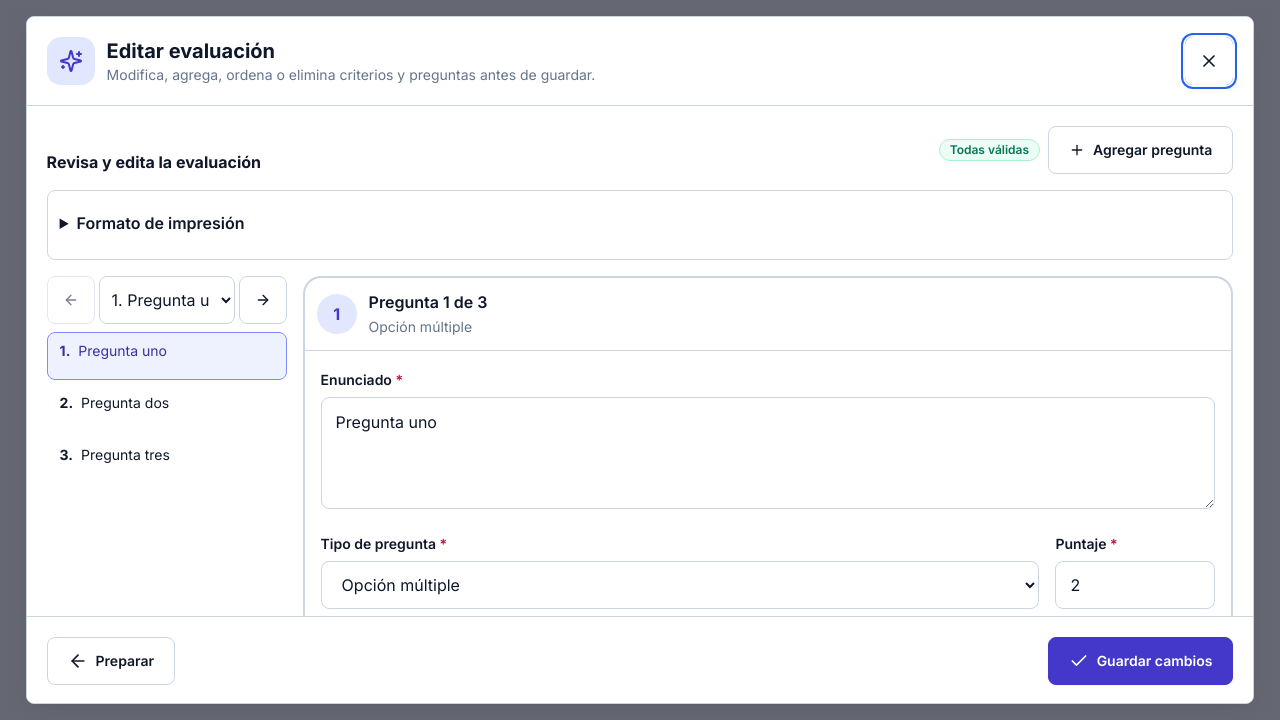
Test case: GenerationWizard › 125 edits only the selected question and keeps changes when navigating directly
Clear the text box labelled "Enunciado *" at (768,453), box [321,397,1215,509]
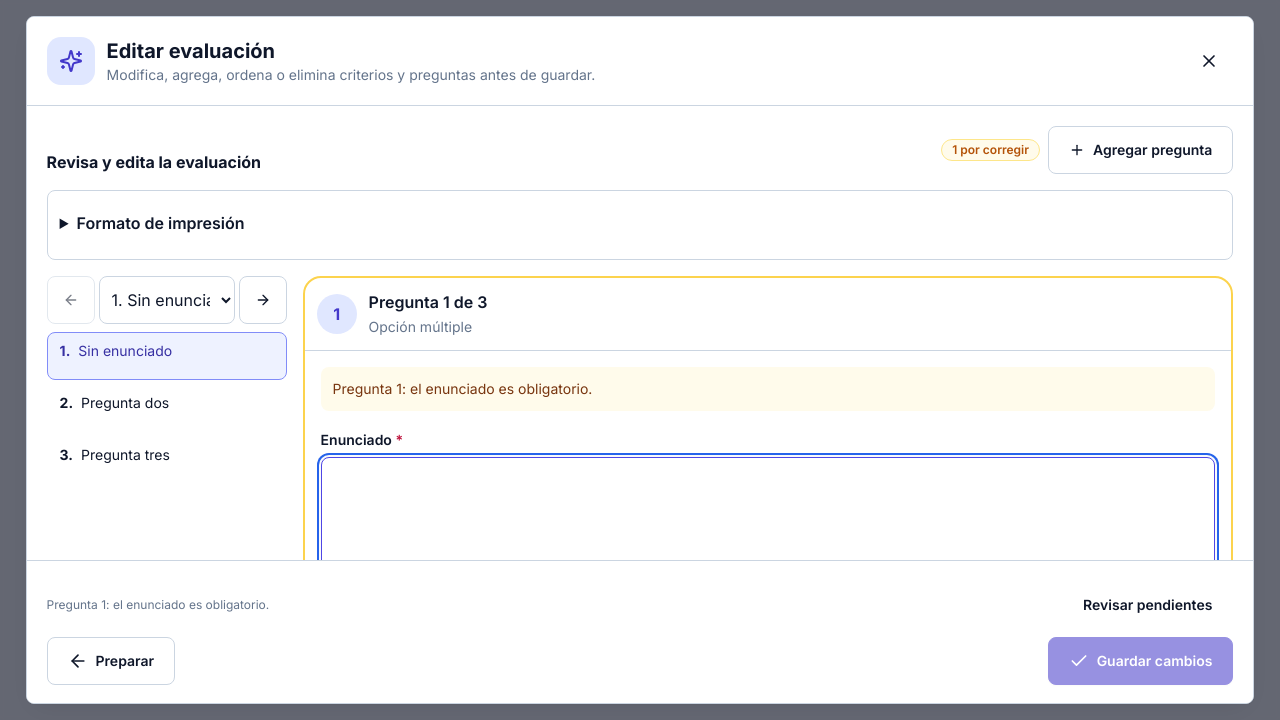
Type "Pregunta uno corregida" into the text box labelled "Enunciado *" at (768,513), box [321,457,1215,569]
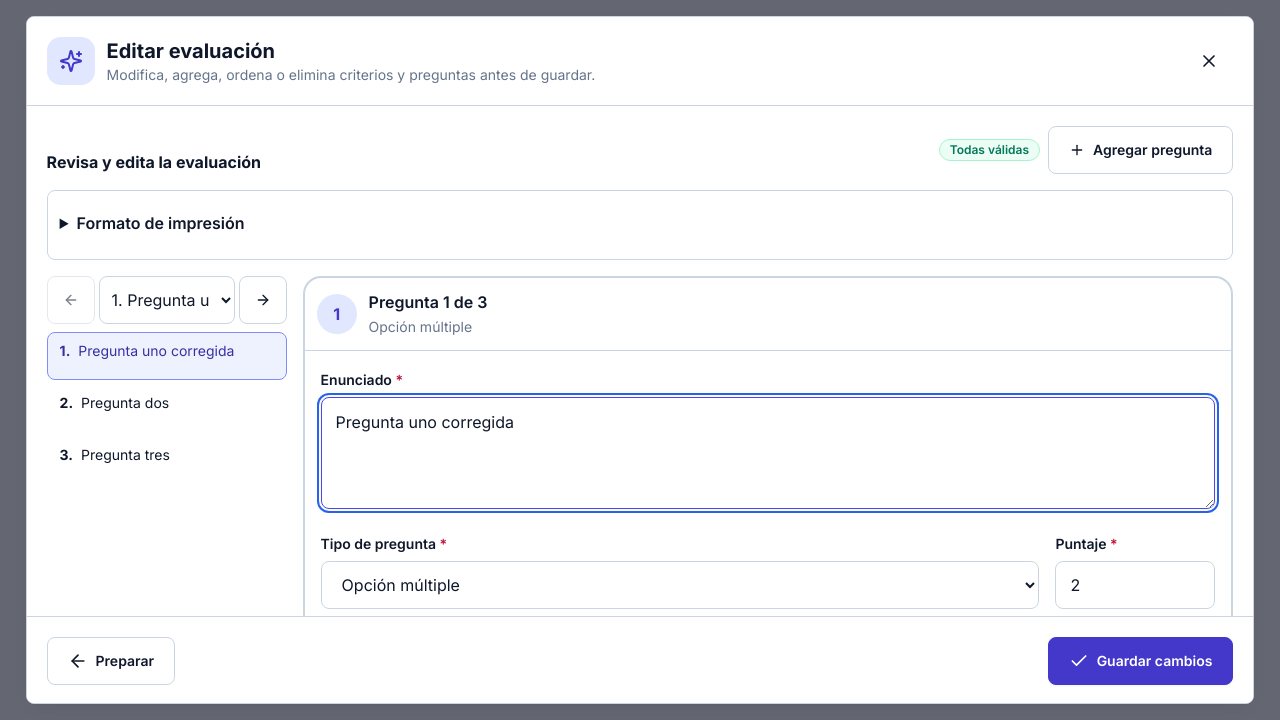
Select "2. Pregunta dos" in the dropdown named "Ir a la pregunta" at (167,300), box [99,276,235,324]
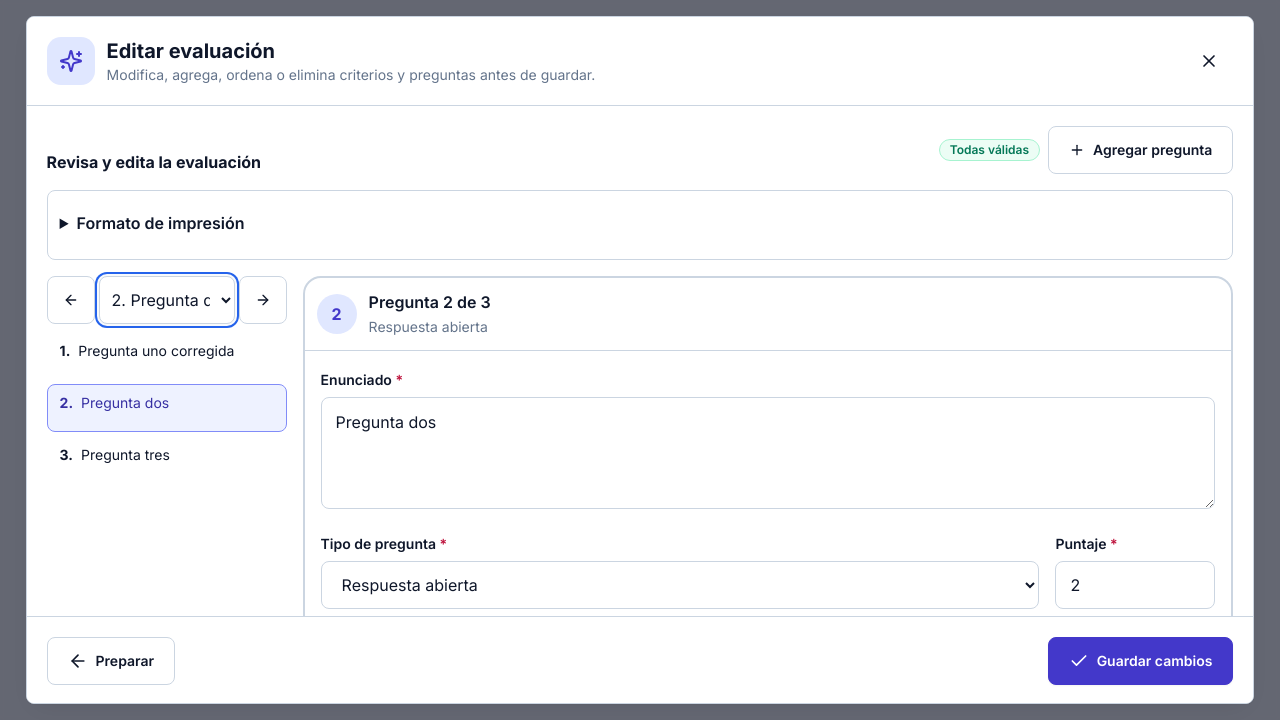
Now the text box labelled "Enunciado *" holds "Pregunta dos", box [321,397,1215,509]
Click the button named "Pregunta anterior" at (71,300), box [47,276,95,324]
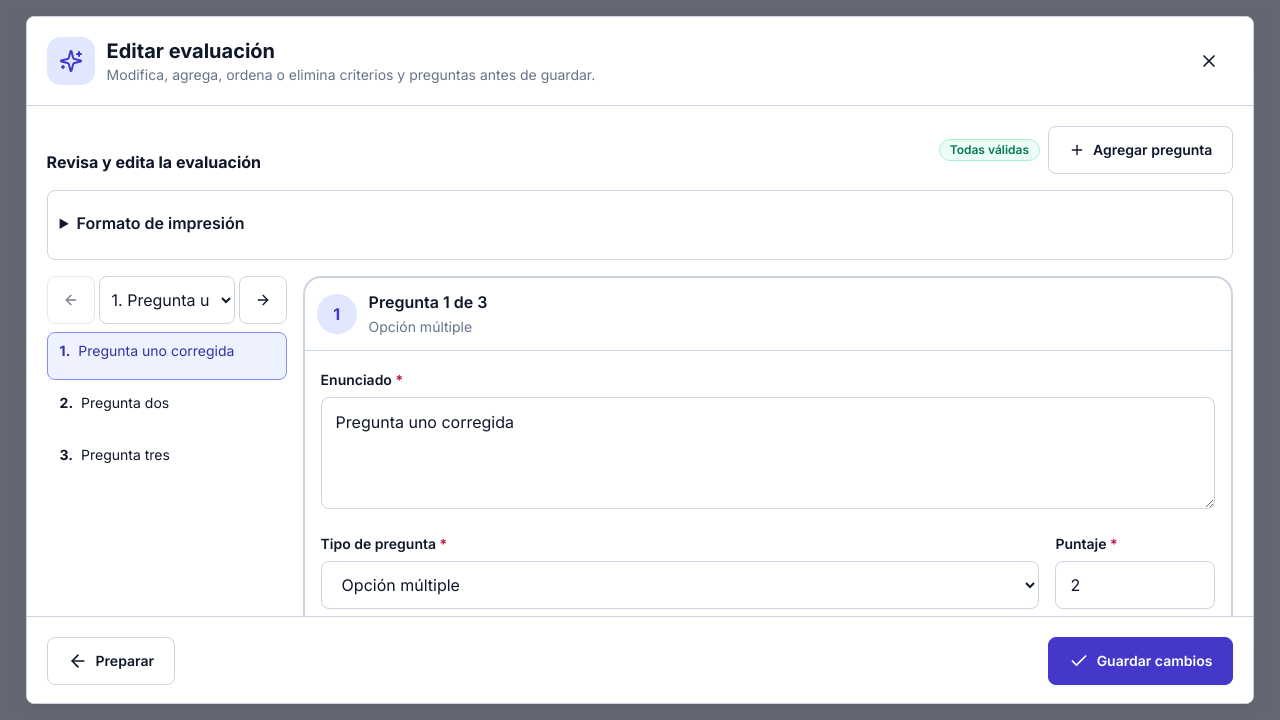
Now the text box labelled "Enunciado *" holds "Pregunta uno corregida", box [321,397,1215,509]
